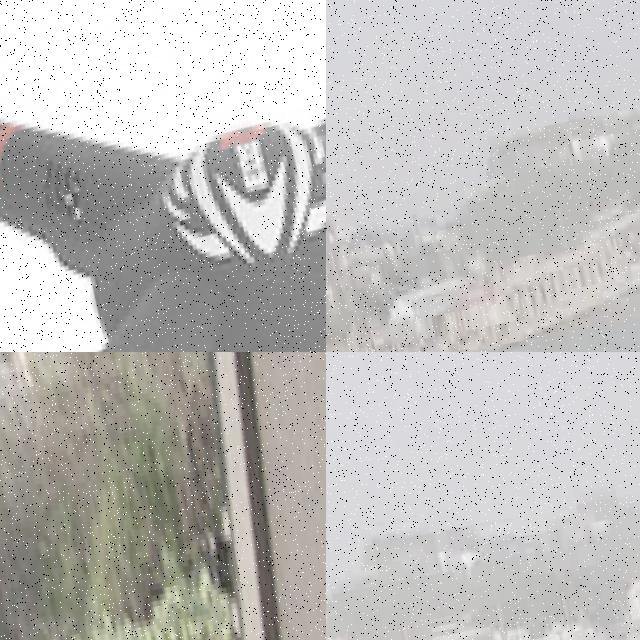drone: (0, 0, 326, 352)
